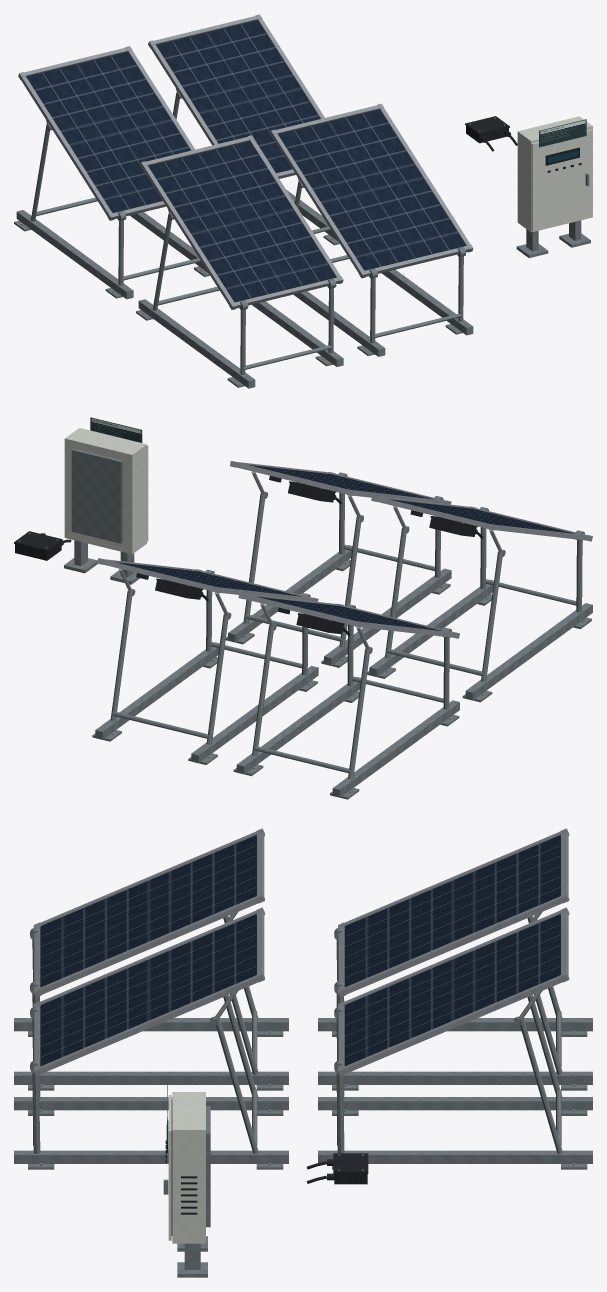
The model's file is PZ_HelioVale_HX180_2x2_SolarArray_REFERENCE.glb.
3 renders of one model, top to bottom at view 1: azimuth 30°, elevation 25°; view 2: azimuth 150°, elevation 25°; view 3: azimuth 270°, elevation 25°, orthographic. The views are drawn at different scales.
Parts seen in each view (by area): view 1: HX180_R1_C1_CellLaminate_6x10, HX180_R1_C2_CellLaminate_6x10, HX180_R2_C1_CellLaminate_6x10, HX180_R2_C2_CellLaminate_6x10, HX180_MAIN_DoorLeaf, HX180_R2_C1_GroundRail_L, HX180_R1_C1_GroundRail_L, HX180_MAIN_ShellL, HX180_R1_C2_GroundRail_R, HX180_R1_C1_GroundRail_R, HX180_R1_C2_GroundRail_L, HX180_R1_C1_ExtrudedAluminium_Rail_L (+19 smaller); view 2: HX180_MAIN_BackMount, HX180_R2_C1_GroundRail_L, HX180_R1_C1_GroundRail_L, HX180_R2_C2_GroundRail_L, HX180_R2_C1_GroundRail_R, HX180_R2_C2_GroundRail_R, HX180_MAIN_ShellL, HX180_MAIN_RearPanel, HX180_R1_C1_GroundRail_R, HX180_R1_C2_GroundRail_L, HX180_R1_C2_GroundRail_R, HX180_R1_C1_CellLaminate_6x10 (+22 smaller); view 3: HX180_R1_C1_CellLaminate_6x10, HX180_R1_C2_CellLaminate_6x10, HX180_R2_C1_CellLaminate_6x10, HX180_R2_C2_CellLaminate_6x10, HX180_R2_C2_GroundRail_L, HX180_R1_C1_GroundRail_R, HX180_R2_C1_GroundRail_R, HX180_MAIN_ShellR, HX180_R2_C2_GroundRail_R, HX180_R1_C2_GroundRail_R, HX180_R1_C2_GroundRail_L, HX180_R2_C1_ExtrudedAluminium_Rail_R (+19 smaller).
Part boxes in pixels (box(x1,y1,x2,y2)): HX180_R1_C1_CellLaminate_6x10: box(148, 141, 336, 302); HX180_R1_C2_CellLaminate_6x10: box(278, 110, 466, 270); HX180_R2_C1_CellLaminate_6x10: box(26, 52, 190, 212); HX180_R2_C2_CellLaminate_6x10: box(156, 20, 320, 173); HX180_MAIN_DoorLeaf: box(531, 129, 591, 231); HX180_R2_C1_GroundRail_L: box(16, 210, 133, 299); HX180_R1_C1_GroundRail_L: box(138, 299, 255, 388); HX180_MAIN_ShellL: box(517, 135, 533, 230); HX180_R1_C2_GroundRail_R: box(381, 269, 473, 335); HX180_R1_C1_GroundRail_R: box(252, 301, 343, 366); HX180_R1_C2_GroundRail_L: box(293, 291, 385, 356); HX180_R1_C1_ExtrudedAluminium_Rail_L: box(143, 165, 233, 305); HX180_MAIN_BackMount: box(71, 448, 123, 543); HX180_R2_C1_GroundRail_L: box(332, 700, 459, 797); HX180_R1_C1_GroundRail_L: box(465, 603, 592, 700); HX180_R2_C2_GroundRail_L: box(191, 665, 318, 763); HX180_R2_C1_GroundRail_R: box(236, 677, 360, 774); HX180_R2_C2_GroundRail_R: box(95, 642, 219, 739); HX180_MAIN_ShellL: box(129, 445, 146, 552); HX180_MAIN_RearPanel: box(68, 442, 133, 552); HX180_R1_C1_GroundRail_R: box(369, 579, 493, 676); HX180_R1_C2_GroundRail_L: box(324, 568, 451, 665); HX180_R1_C2_GroundRail_R: box(228, 545, 352, 642); HX180_R1_C1_CellLaminate_6x10: box(389, 499, 575, 533); HX180_R1_C1_CellLaminate_6x10: box(41, 835, 256, 986); HX180_R1_C2_CellLaminate_6x10: box(41, 914, 256, 1065); HX180_R2_C1_CellLaminate_6x10: box(345, 835, 560, 986); HX180_R2_C2_CellLaminate_6x10: box(345, 914, 560, 1065); HX180_R2_C2_GroundRail_L: box(318, 1097, 592, 1110); HX180_R1_C1_GroundRail_R: box(14, 1071, 288, 1084); HX180_R2_C1_GroundRail_R: box(318, 1071, 592, 1084); HX180_MAIN_ShellR: box(172, 1131, 205, 1242); HX180_R2_C2_GroundRail_R: box(318, 1150, 592, 1163); HX180_R1_C2_GroundRail_R: box(14, 1150, 288, 1163); HX180_R1_C2_GroundRail_L: box(14, 1097, 288, 1110); HX180_R2_C1_ExtrudedAluminium_Rail_R: box(344, 896, 562, 994).
Bounding box in the file's own units: 4.3 × 1.56 × 4.15.
Materials: 7 (7 with a texture image).
